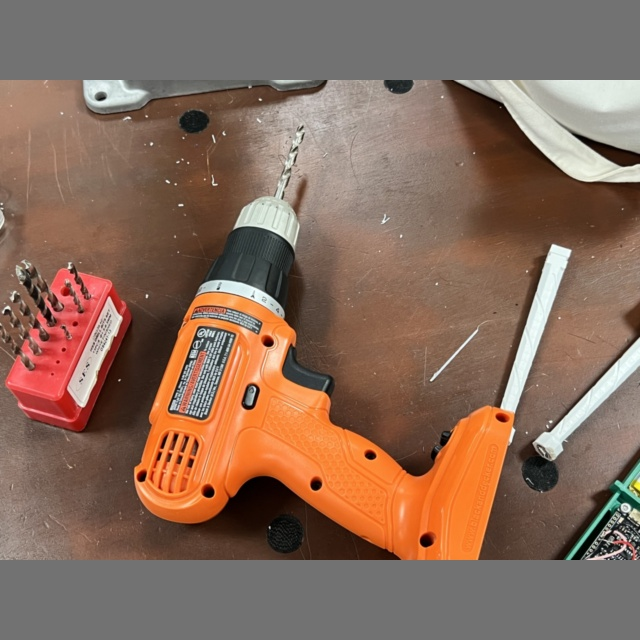drill: (135, 128, 513, 560)
